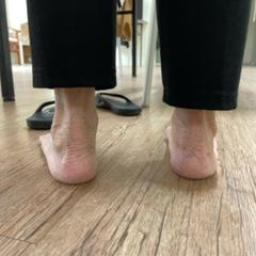Back View -Both Feet-: (26, 91, 243, 194)
